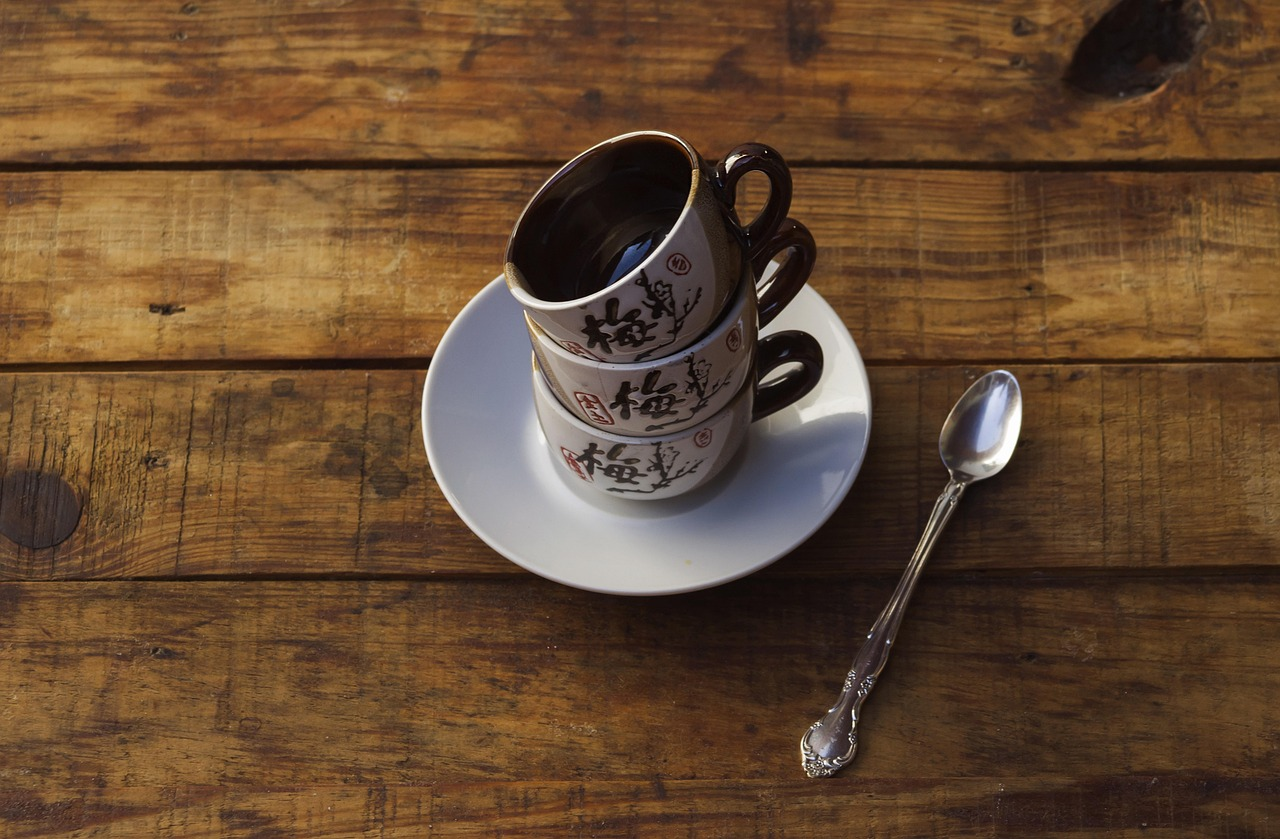mug: (487, 136, 813, 368)
